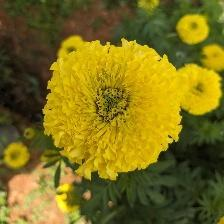marigold: (41, 34, 185, 178)
